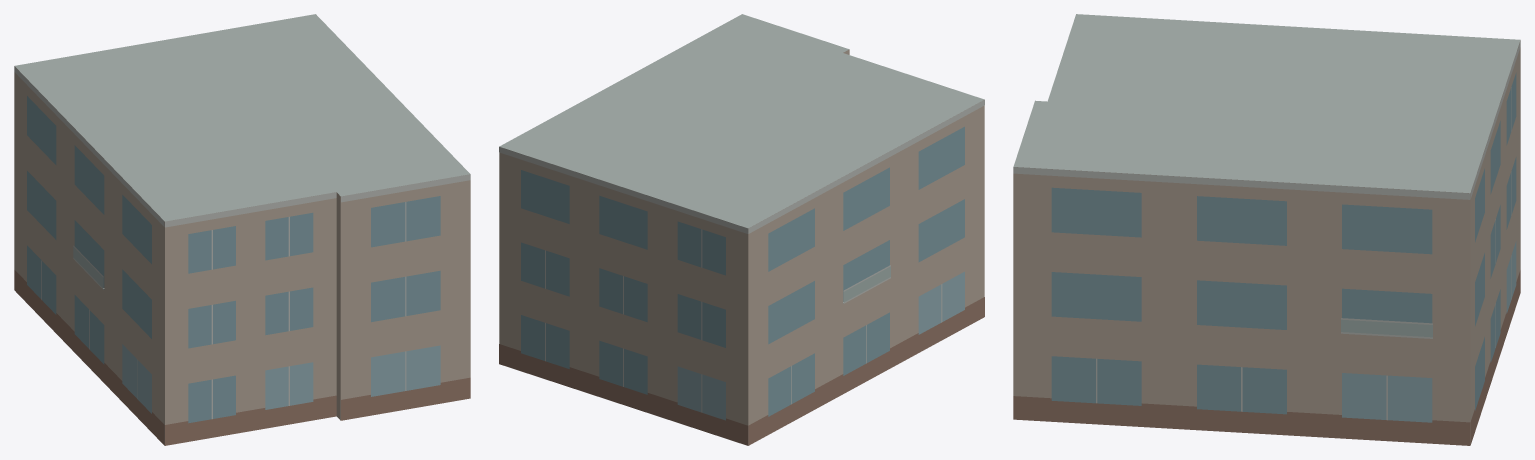
File: survey-upis-32831694.glb
3 views of the same model, side by side, from view 1: azimuth 30°, elevation 25°; view 2: azimuth 150°, elevation 25°; view 3: azimuth 270°, elevation 25° (orthographic). The views are drawn at different scales.
Visible parts, largest first — view 1: survey-upis-32831694.tmp; view 2: survey-upis-32831694.tmp; view 3: survey-upis-32831694.tmp.
Boxes of the visible parts, x1=… form: survey-upis-32831694.tmp: x1=14, y1=14, x2=470, y2=445; survey-upis-32831694.tmp: x1=499, y1=14, x2=984, y2=445; survey-upis-32831694.tmp: x1=1013, y1=14, x2=1520, y2=445.
Size of the model in its own units: 13.93 by 9.15 by 16.65.
